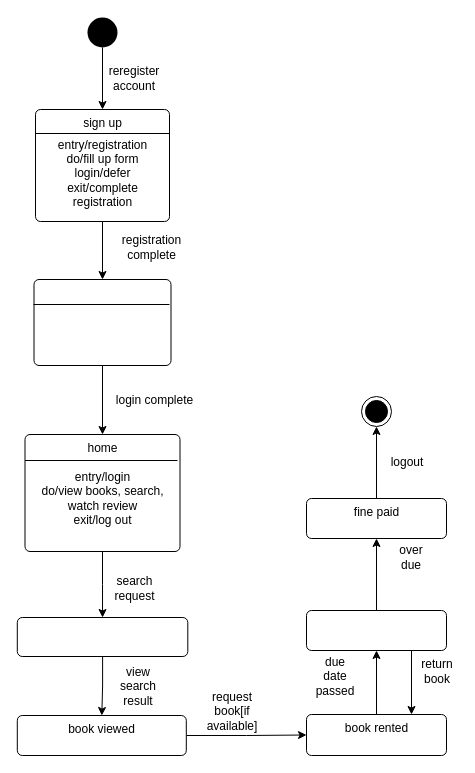
The diagram is 475 pixels wide and 773 high, and some of its shapes have lost their labels. Each missing label, with the centre of its shape:
book renwed: [376,630]
login entry/insert password exit/login successful: [102,322]
search: [102,636]
